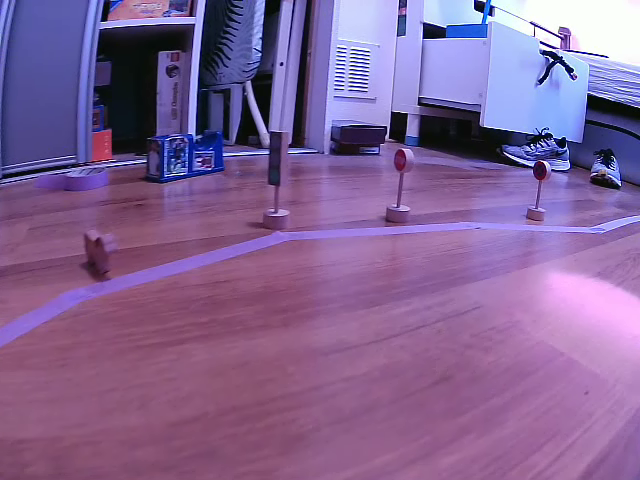groenlicht: (267, 129, 288, 188)
stopbord: (394, 148, 413, 173)
